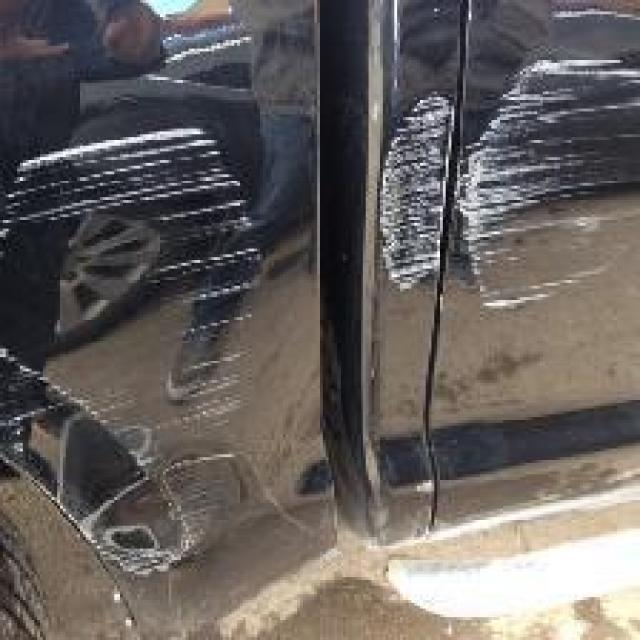damaged: (0, 126, 263, 583), (372, 0, 637, 329)
